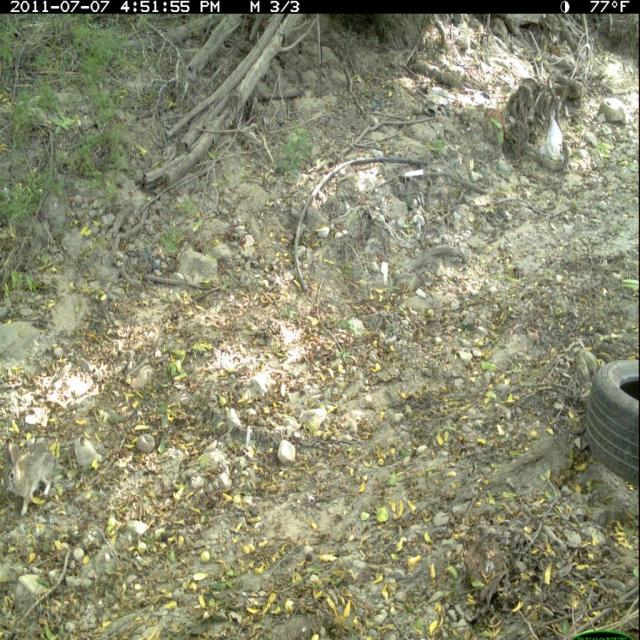rabbit: (2, 436, 65, 520)
